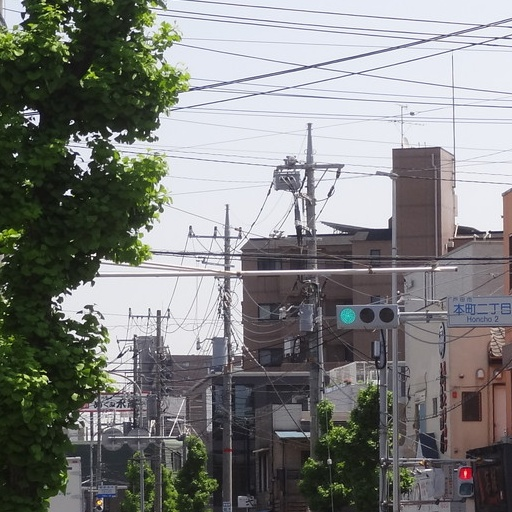Traffic_Signal_Blue: (325, 295, 402, 331)
